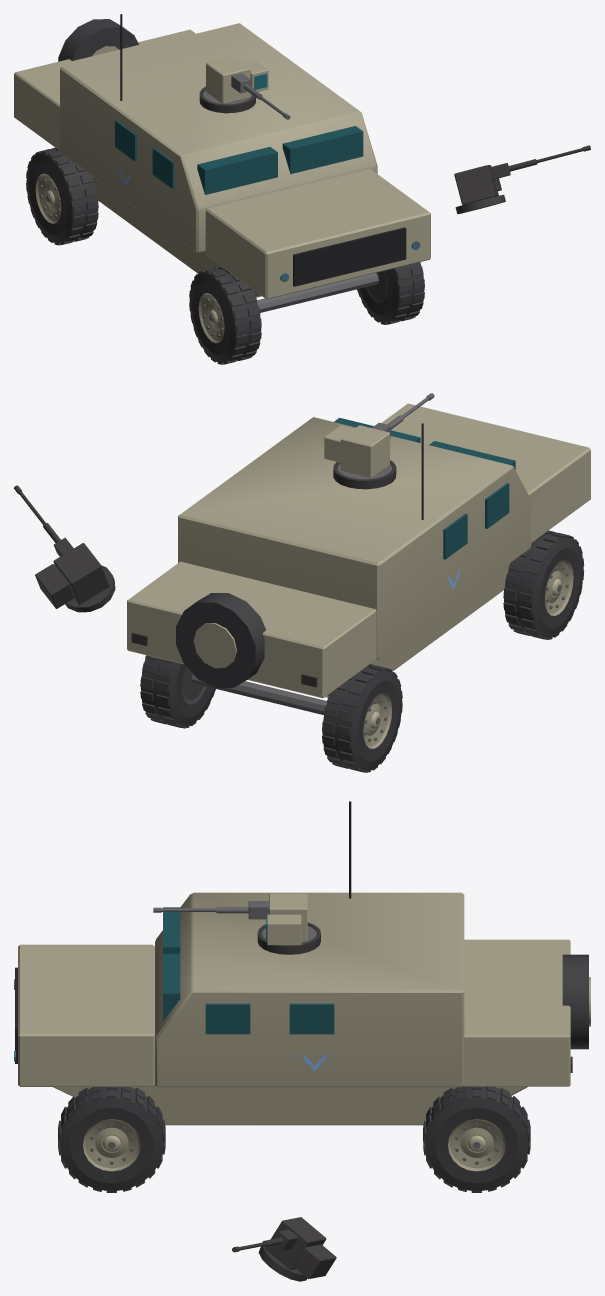
File: bushmaster__jltv_pera.glb
3 renders of one model, top to bottom at view 1: azimuth 30°, elevation 25°; view 2: azimuth 150°, elevation 25°; view 3: azimuth 270°, elevation 25°, orthographic. The views are drawn at different scales.
Parts seen in each view (by area): view 1: Hull_Mesh, Wheel_L1_Mesh, Wheel_L0_Mesh, Wreck, Wheel_R1_Mesh, Turret_Mesh, Gun_Mesh; view 2: Hull_Mesh, Wheel_L1_Mesh, Wheel_L0_Mesh, Wreck, Wheel_R0_Mesh, Turret_Mesh; view 3: Hull_Mesh, Wheel_R0_Mesh, Wheel_R1_Mesh, Wreck, Turret_Mesh, Gun_Mesh.
Part boxes in pixels (x1,y1,x2,y2): Hull_Mesh: (14,14,430,312); Wheel_L1_Mesh: (189,266,261,364); Wheel_L0_Mesh: (26,147,98,245); Wreck: (59,86,590,354); Wheel_R1_Mesh: (357,262,424,324); Turret_Mesh: (203,56,268,104); Gun_Mesh: (231,73,290,119); Hull_Mesh: (127,403,590,714); Wheel_L1_Mesh: (503,530,584,639); Wheel_L0_Mesh: (322,664,402,772); Wreck: (14,460,565,768); Wheel_R0_Mesh: (140,655,215,728); Turret_Mesh: (324,425,391,479); Hull_Mesh: (14,801,590,1125); Wheel_R0_Mesh: (423,1086,530,1192); Wheel_R1_Mesh: (58,1087,165,1192); Wreck: (116,922,496,1281); Turret_Mesh: (261,893,316,945); Gun_Mesh: (153,901,268,919).
Size of what is drawn, in the model's own units: 5.55 by 3.23 by 5.69.
